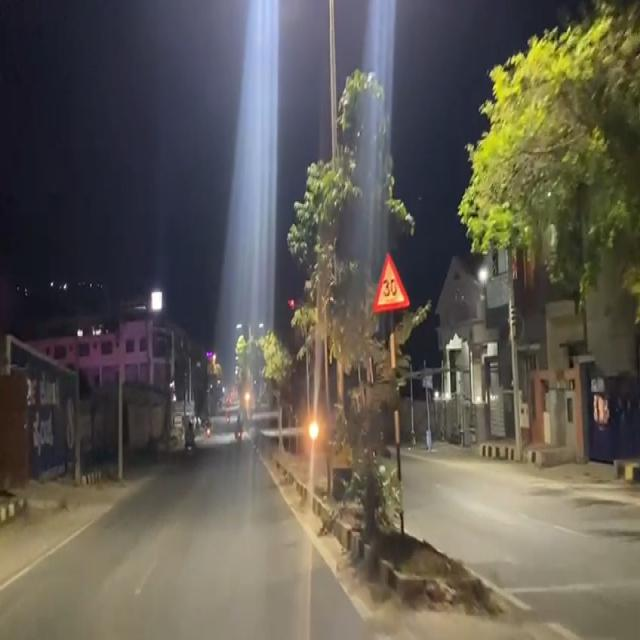bien_cam: (373, 252, 411, 315)
